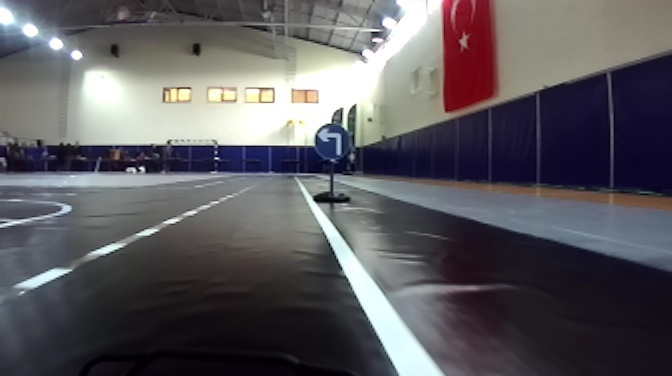sola_donus: (311, 123, 355, 160)
